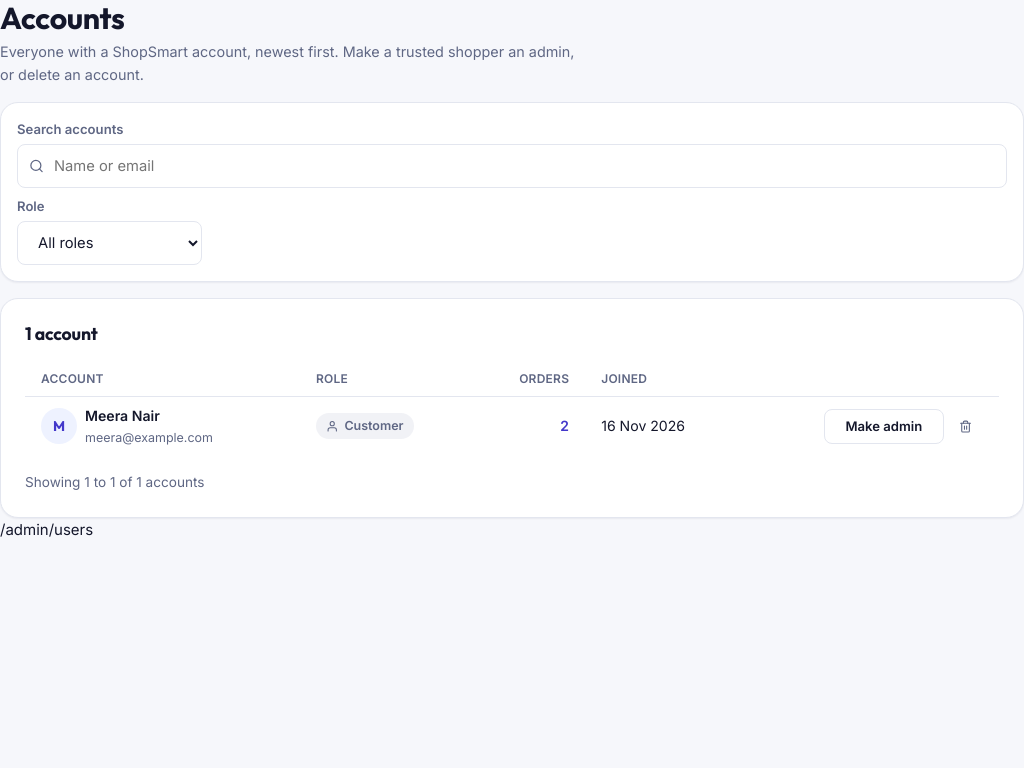
Test case: AdminUsers › deletes an account after asking and moves focus to the list
Expected: the text "meera@example.com" is shown, [85,428,213,448]
Click the 2nd button: (965, 426) [948,409,983,444]
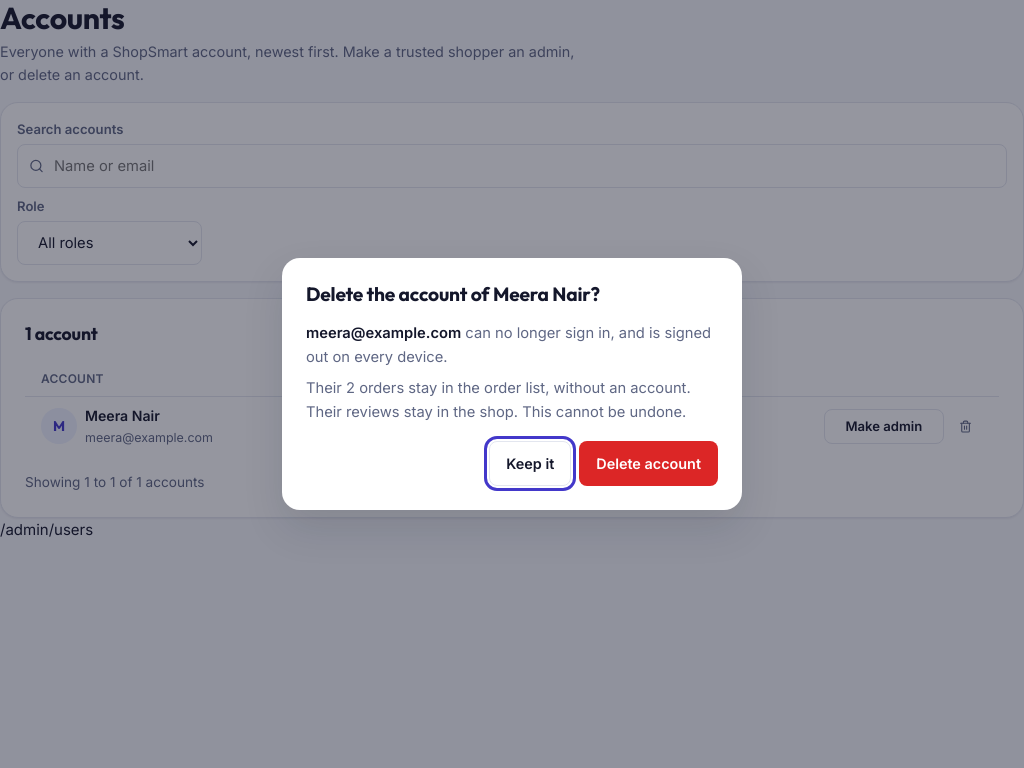
Expected: the dialog "Delete the account of Meera Nair?" shows "Their 2 orders stay in the order list, without an account.", [306,380,691,398]
Click the button "Delete account": (649, 463) [579,441,718,486]
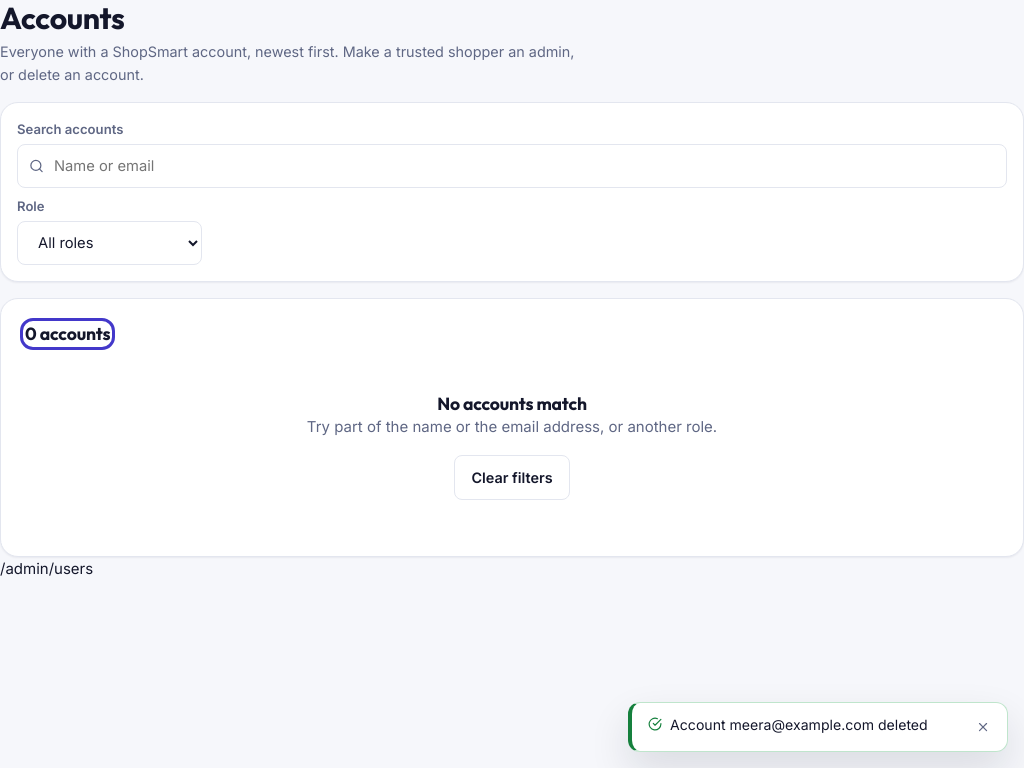
Expected: the text "Account meera@example.com deleted" is shown, [670,716,928,733]
